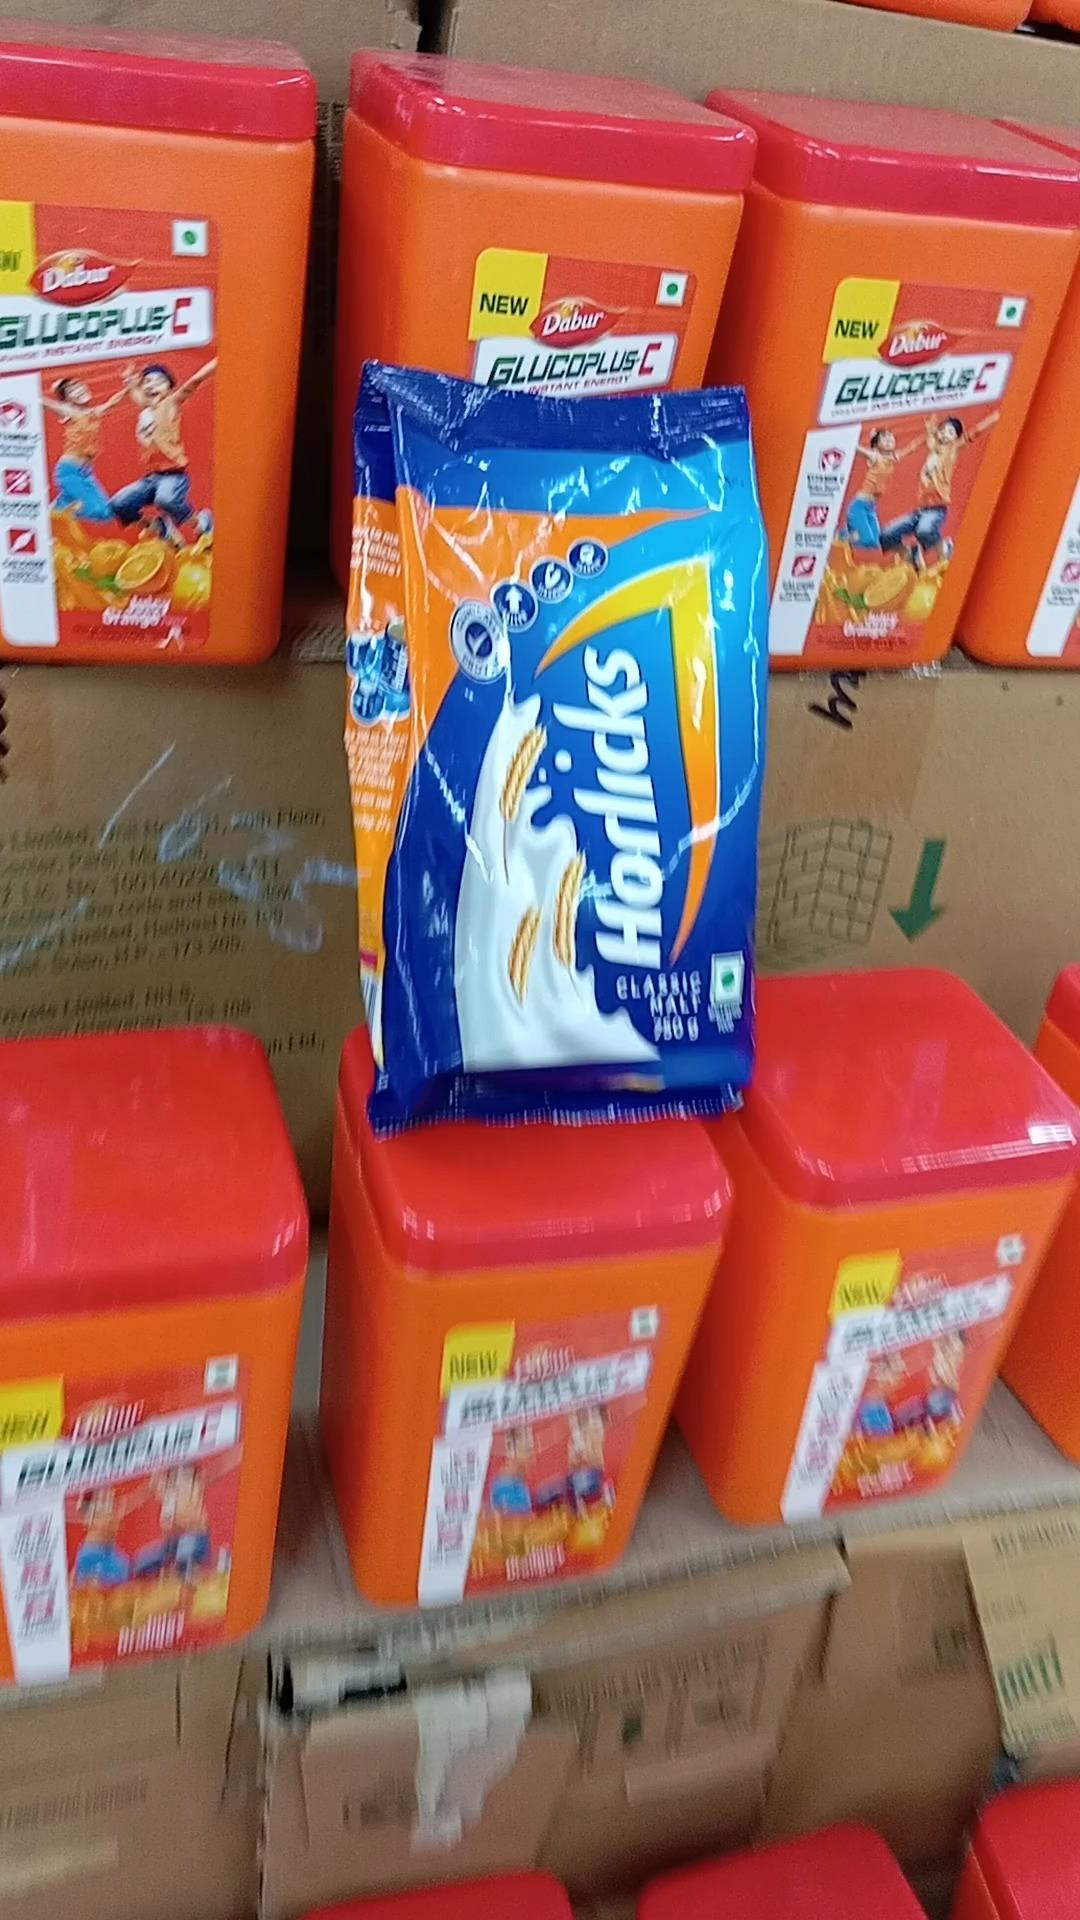HORLICK_CLASSIC_MALT_750_G_POUCH: (351, 357, 764, 1110)
